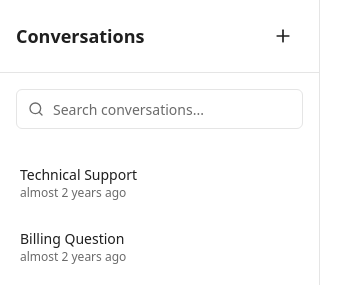
Test case: ConversationSidebar Component › filters conversations based on search query
The width and height of the screenshot is (337, 302).
Type "Technical" into the field with placeholder "Search conversations..." at (160, 109), box [16,89,303,129]
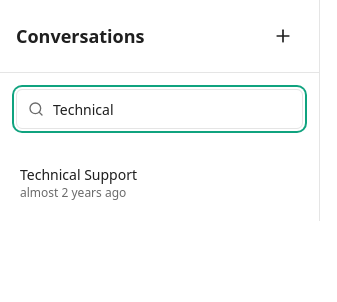
Expected: the text "Technical Support" is shown, [20,165,137,184]
Result: the text "Billing Question" is gone
